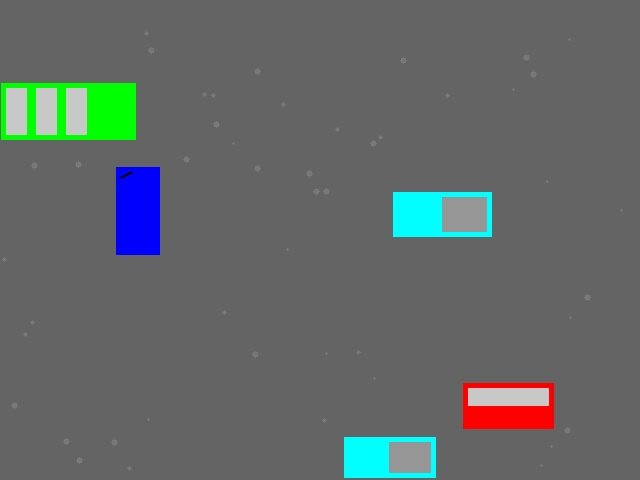bus: (1, 83, 135, 139)
car: (463, 383, 553, 428)
motorcycle: (116, 167, 159, 254)
truck: (393, 192, 491, 236), (344, 437, 435, 477)
